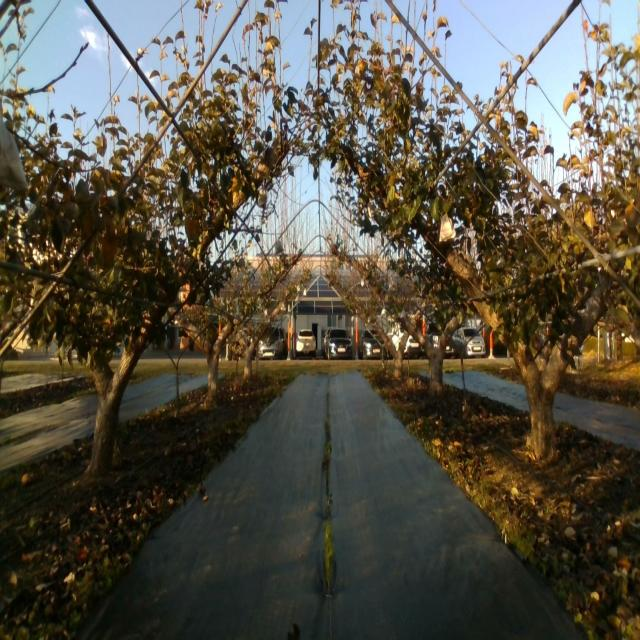pearbags: (439, 212, 456, 244), (258, 186, 268, 208)
